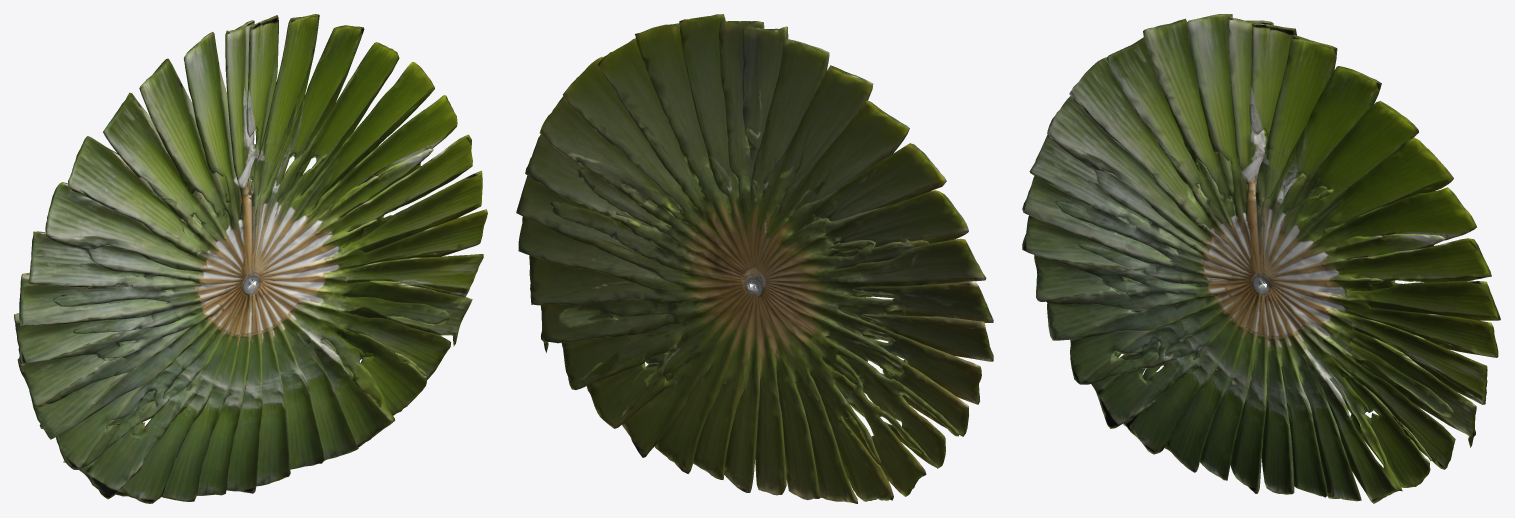
File: AI_FanPalmLeaf.fbx
3 renders of one model, left to right at view 1: azimuth 30°, elevation 25°; view 2: azimuth 150°, elevation 25°; view 3: azimuth 330°, elevation 25°, orthographic.
Visible parts, largest first — view 1: Mesh1; view 2: Mesh1; view 3: Mesh1.
Boxes of the visible parts, x1=… form: Mesh1: x1=14, y1=14, x2=487, y2=503; Mesh1: x1=516, y1=14, x2=993, y2=503; Mesh1: x1=1022, y1=14, x2=1500, y2=503.
Bounding box in the file's own units: 201 × 192 × 7.72.
Materials: 1 (1 with a texture image).
